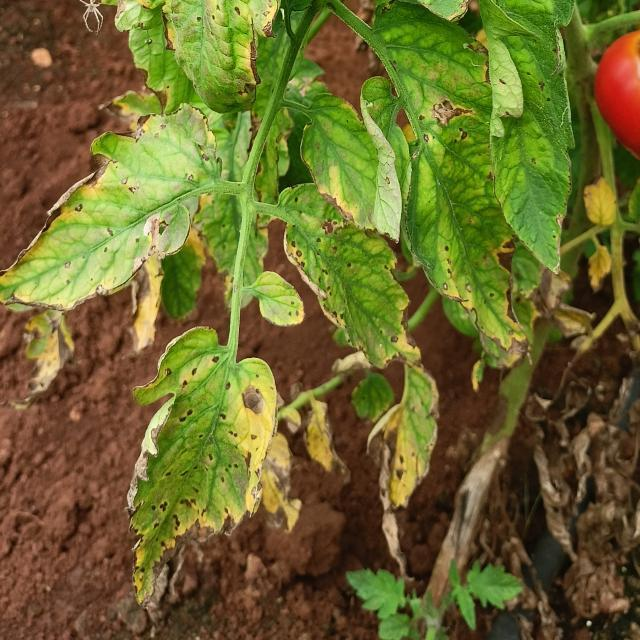Early Blight: (361, 0, 533, 364), (2, 100, 232, 316), (119, 322, 280, 613), (279, 180, 428, 374)
